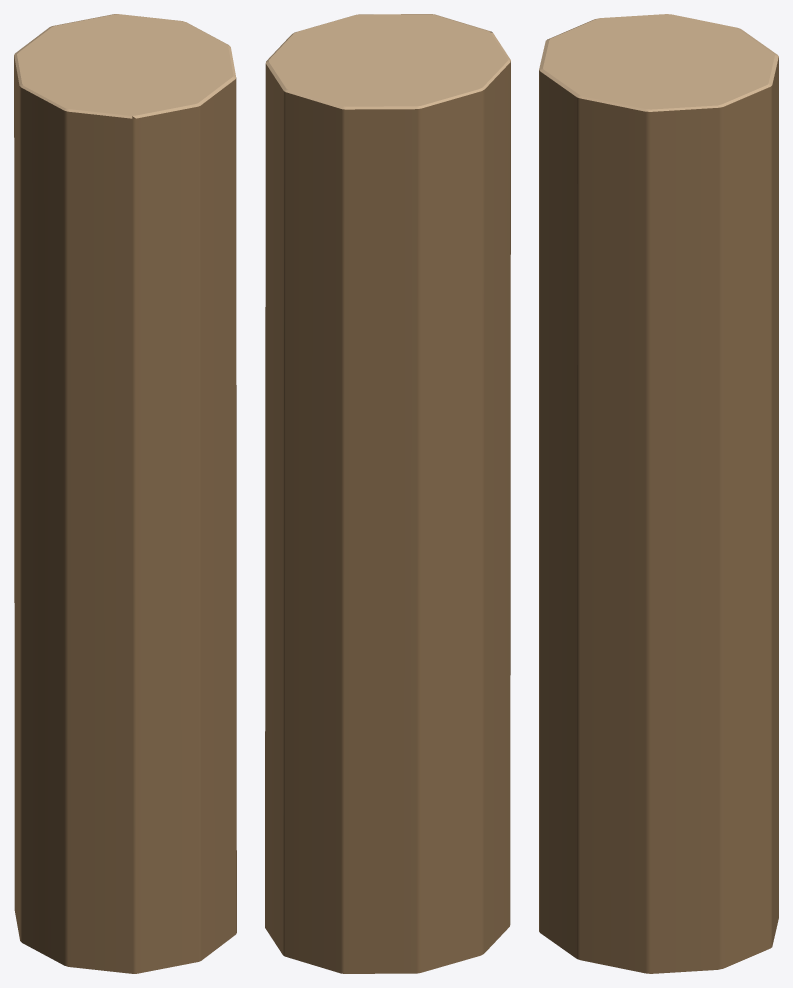
File: poste.fbx
3 renders of one model, left to right at view 1: azimuth 30°, elevation 25°; view 2: azimuth 150°, elevation 25°; view 3: azimuth 270°, elevation 25°, orthographic.
Visible parts, largest first — view 1: Object_5.013; view 2: Object_5.013; view 3: Object_5.013.
Boxes of the visible parts, left/top/right/bottom form: Object_5.013: left=14, top=14, right=236, bottom=973; Object_5.013: left=265, top=14, right=510, bottom=973; Object_5.013: left=539, top=14, right=778, bottom=973.
Bounding box in the file's own units: 26.84 × 110 × 27.72.
